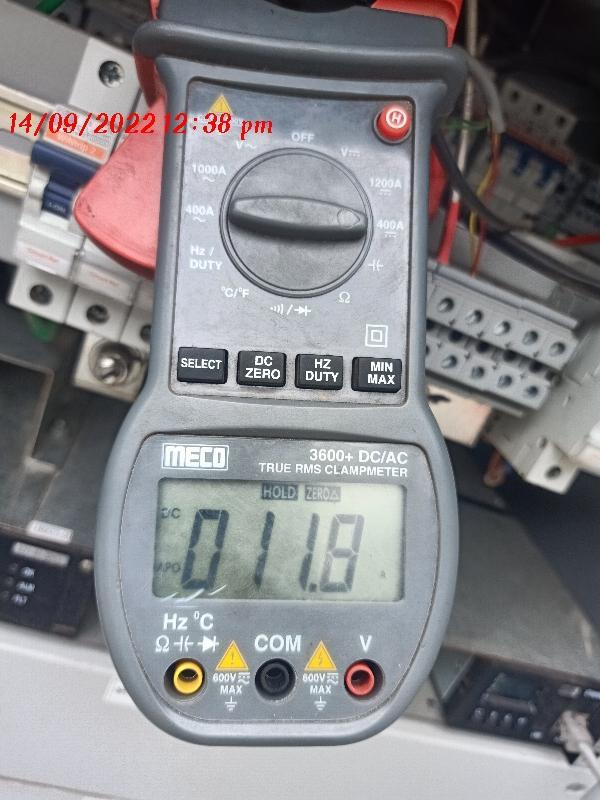ClampMeter_Display: (149, 479, 406, 602)
